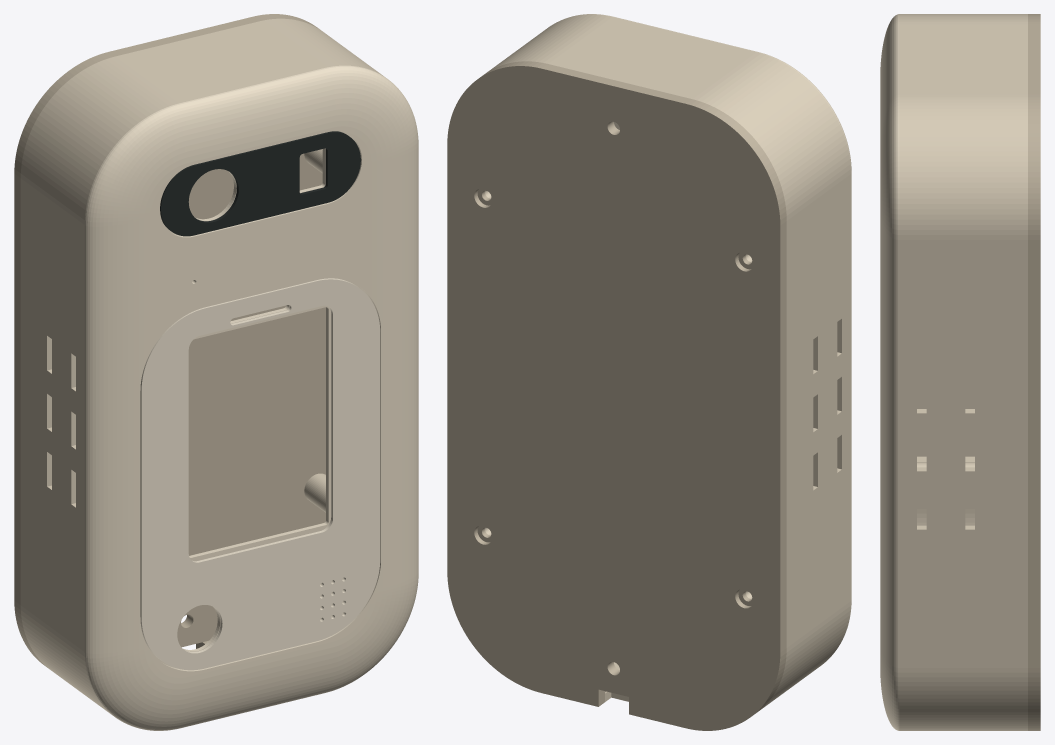
Rendered from rounded_enclosure_assembly.obj.
3 views of the same model, side by side, from view 1: azimuth 30°, elevation 25°; view 2: azimuth 150°, elevation 25°; view 3: azimuth 270°, elevation 25° (orthographic).
Visible parts, largest first — view 1: 01_front_fascia, 02_main_body, 05_control_panel, 03_rear_plate, 04_black_visor; view 2: 03_rear_plate, 02_main_body, 01_front_fascia; view 3: 02_main_body, 01_front_fascia, 03_rear_plate.
Boxes of the visible parts, x1=… form: 01_front_fascia: x1=84, y1=65, x2=418, y2=730; 02_main_body: x1=20, y1=18, x2=382, y2=713; 05_control_panel: x1=140, y1=278, x2=380, y2=670; 03_rear_plate: x1=14, y1=14, x2=325, y2=667; 04_black_visor: x1=160, y1=131, x2=360, y2=236; 03_rear_plate: x1=447, y1=61, x2=786, y2=730; 02_main_body: x1=485, y1=14, x2=850, y2=710; 01_front_fascia: x1=572, y1=14, x2=851, y2=643; 02_main_body: x1=899, y1=14, x2=1027, y2=730; 01_front_fascia: x1=880, y1=14, x2=899, y2=730; 03_rear_plate: x1=1028, y1=14, x2=1040, y2=730.
Size of the model in its own units: 120 by 215 by 50.
